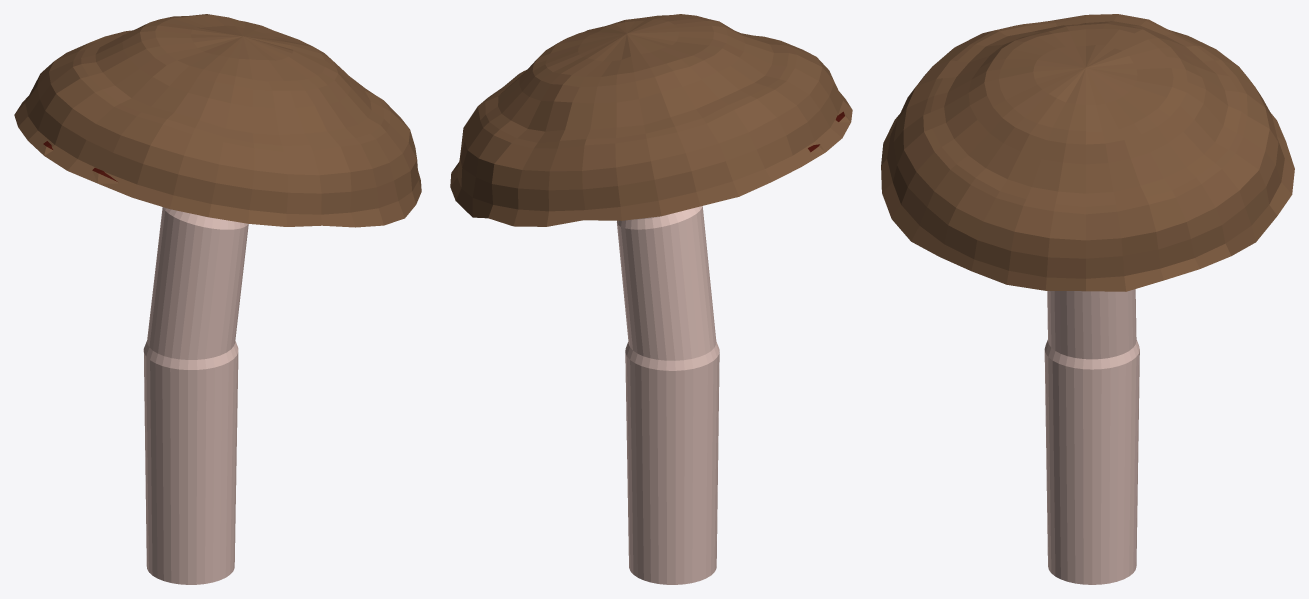
File: Brown Mushroom 1.fbx
The picture shows the model from 3 angles, left to right: view 1: azimuth 30°, elevation 25°; view 2: azimuth 150°, elevation 25°; view 3: azimuth 270°, elevation 25°; orthographic projection.
Visible parts, largest first — view 1: Mushroom2.1; view 2: Mushroom2.1; view 3: Mushroom2.1.
Boxes of the visible parts, x1,y1,x2,y2 form: Mushroom2.1: (14, 14, 421, 584); Mushroom2.1: (450, 14, 852, 584); Mushroom2.1: (881, 14, 1294, 584).
Size of the model in its own units: 913 by 1312 by 935.
